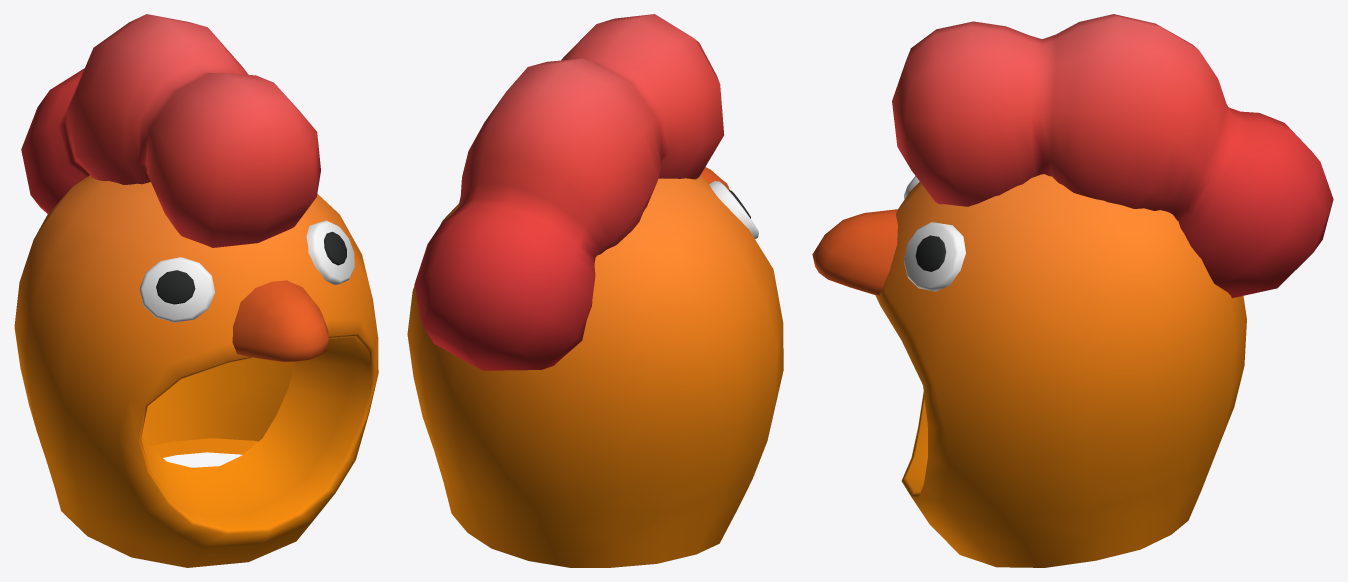
Rendered from Hat_48.glb.
3 renders of one model, left to right at view 1: azimuth 30°, elevation 25°; view 2: azimuth 150°, elevation 25°; view 3: azimuth 270°, elevation 25°, orthographic. The views are drawn at different scales.
Visible parts, largest first — view 1: Hat_48; view 2: Hat_48; view 3: Hat_48.
Boxes of the visible parts, bbox=[...] form: Hat_48: bbox=[14, 14, 378, 567]; Hat_48: bbox=[407, 14, 783, 567]; Hat_48: bbox=[812, 14, 1333, 567].
Bounding box in the file's own units: 0.5969 × 0.877 × 0.8093.
Materials: 1 (1 with a texture image).
